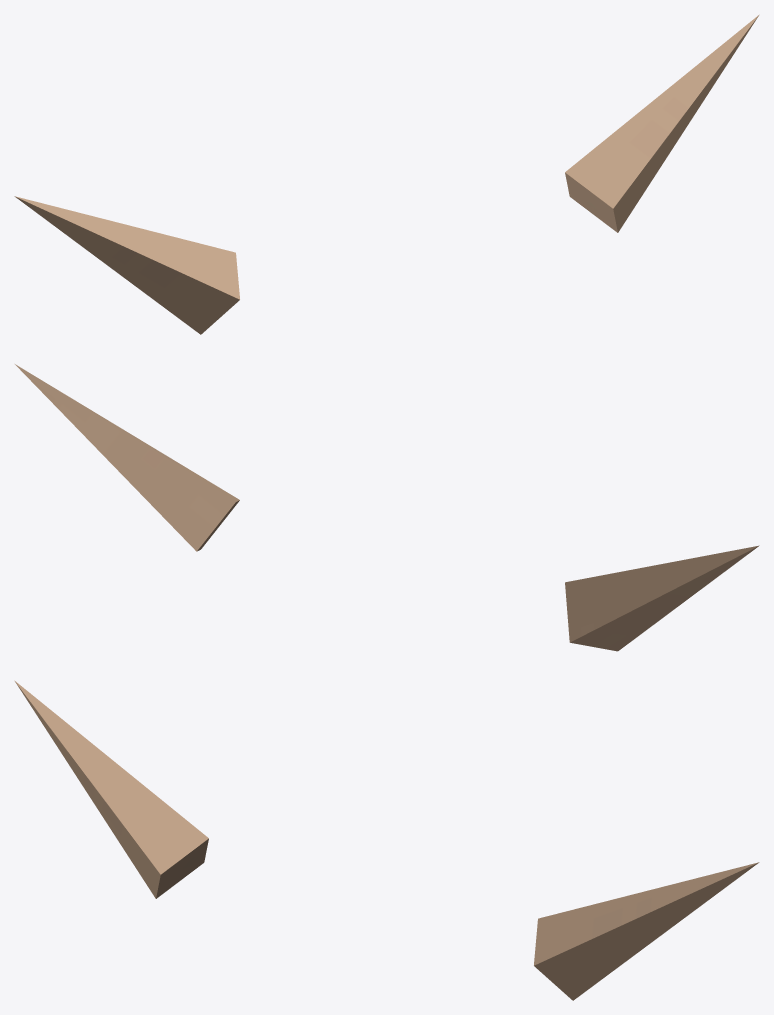
Rendered from acc_ear_elf.glb.
The picture shows the model from 3 angles, top to bottom: view 1: azimuth 30°, elevation 25°; view 2: azimuth 150°, elevation 25°; view 3: azimuth 330°, elevation 25°; orthographic projection.
Visible parts, largest first — view 1: acc_ear_elf; view 2: acc_ear_elf; view 3: acc_ear_elf.
Part boxes in pixels (x1,y1,x2,y2): acc_ear_elf: (14,14,759,334); acc_ear_elf: (15,364,759,651); acc_ear_elf: (14,680,759,1000).
Bounding box in the file's own units: 0.48 × 0.1 × 0.0485.
Materials: 1 (1 with a texture image).
